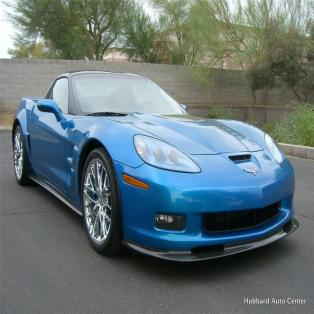Auto: (10, 70, 300, 257)
